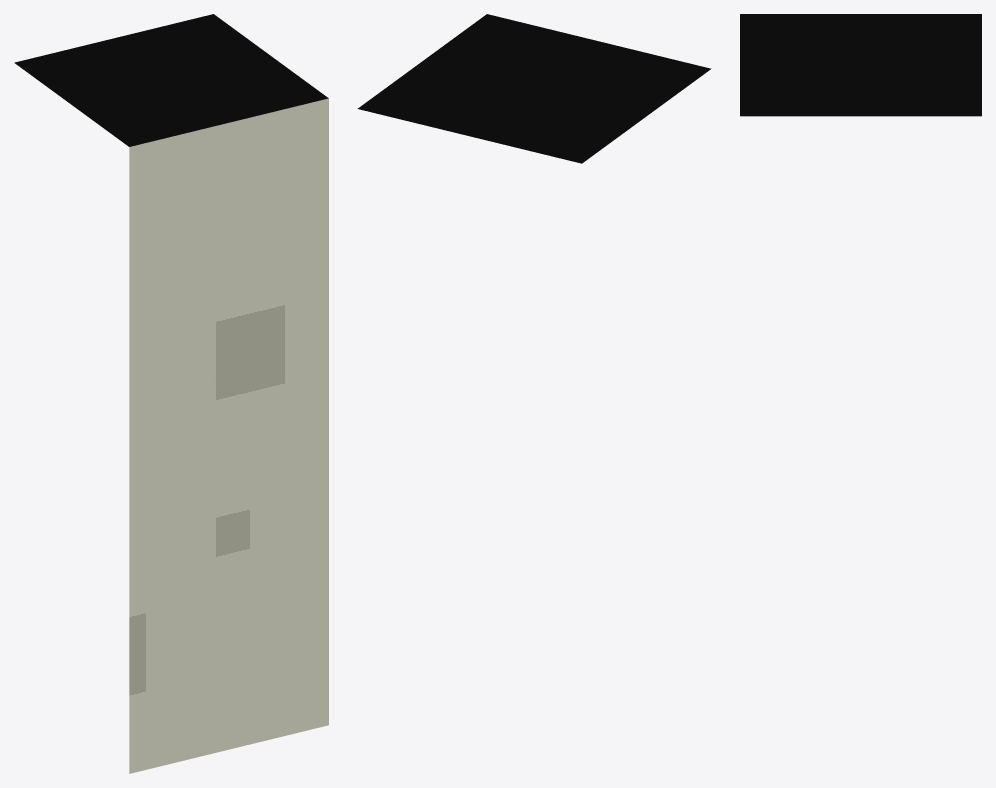
3 renders of one model, left to right at view 1: azimuth 30°, elevation 25°; view 2: azimuth 150°, elevation 25°; view 3: azimuth 270°, elevation 25°, orthographic. The views are drawn at different scales.
Bounding box in the file's own units: 1 × 3 × 1.
Materials: 2 (1 with a texture image).
